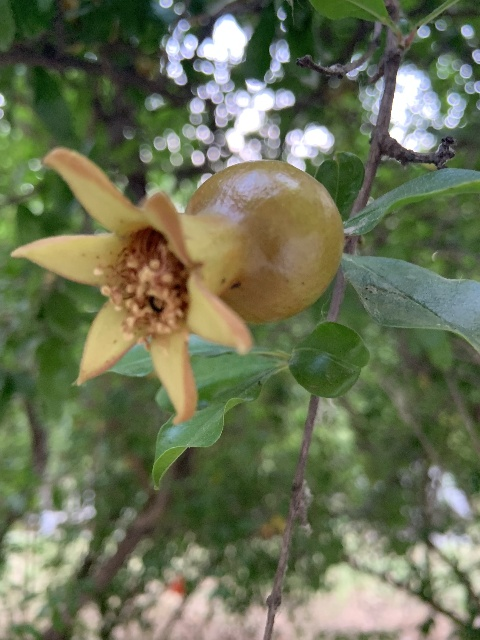early-fruit: (11, 145, 340, 426)
flower: (167, 574, 186, 596)
